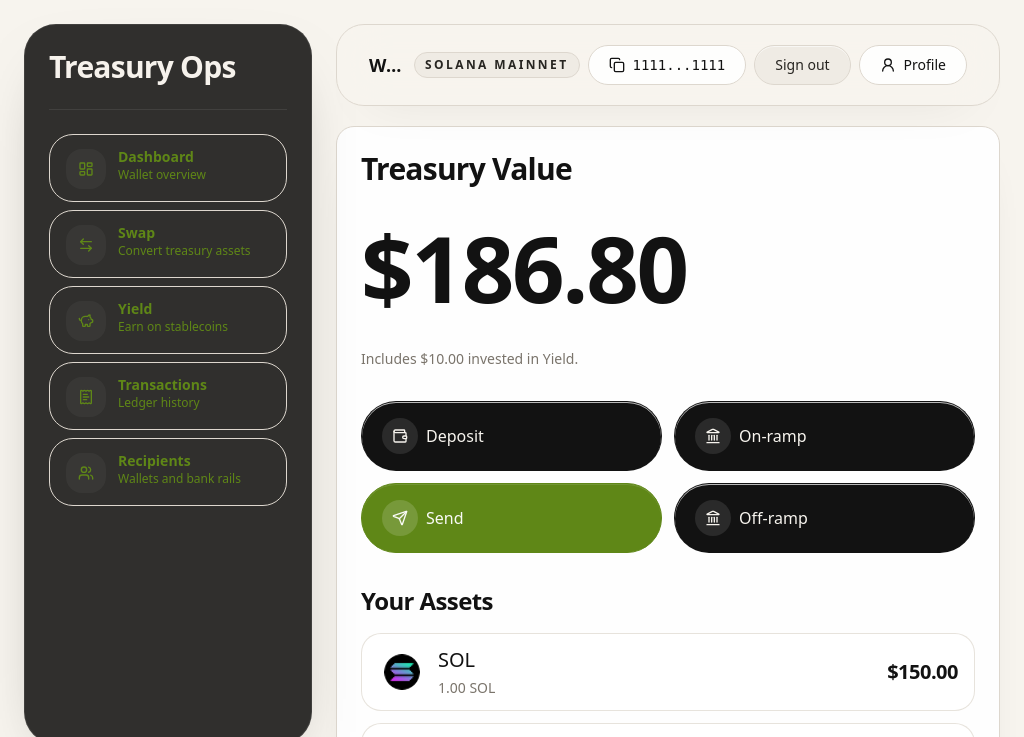
Dashboard hardening › shows a notice when deposit QR generation fails
Click the button "Deposit": [400, 436] box [361,401,662,471]
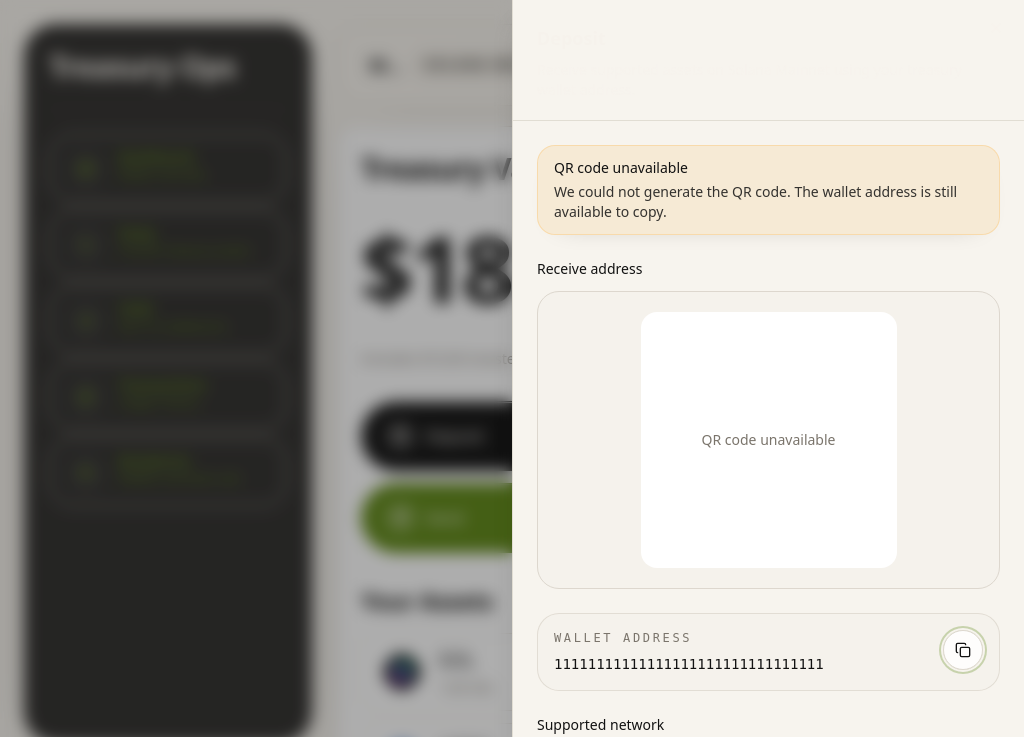
Now the text "We could not generate the QR code. The wallet address is still available to copy." is shown, box [554,182,957,221]
